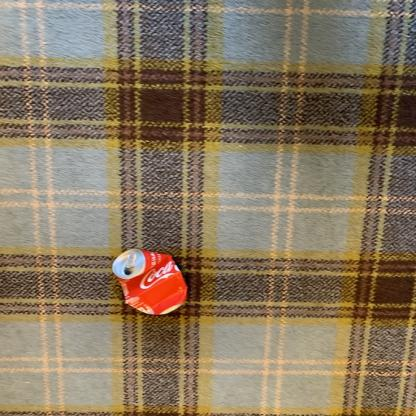trash: (111, 248, 188, 318)
